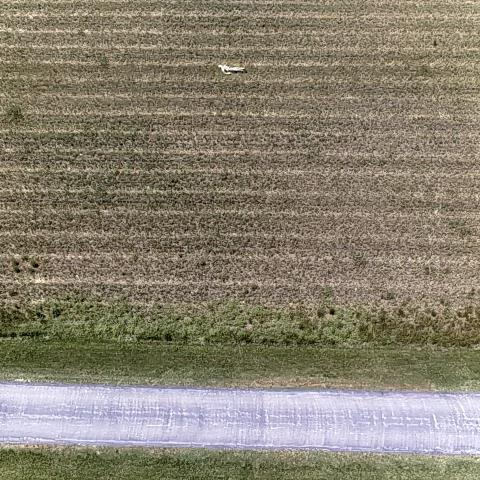person: (217, 62, 247, 76)
